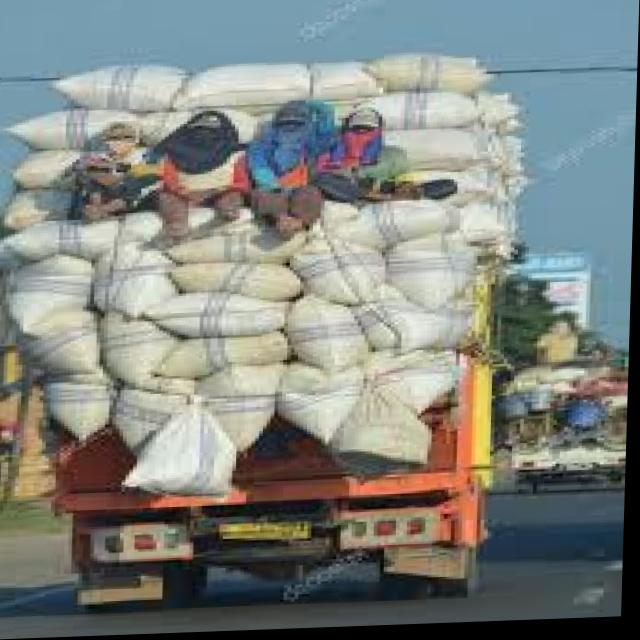uncovered: (0, 51, 527, 632)
